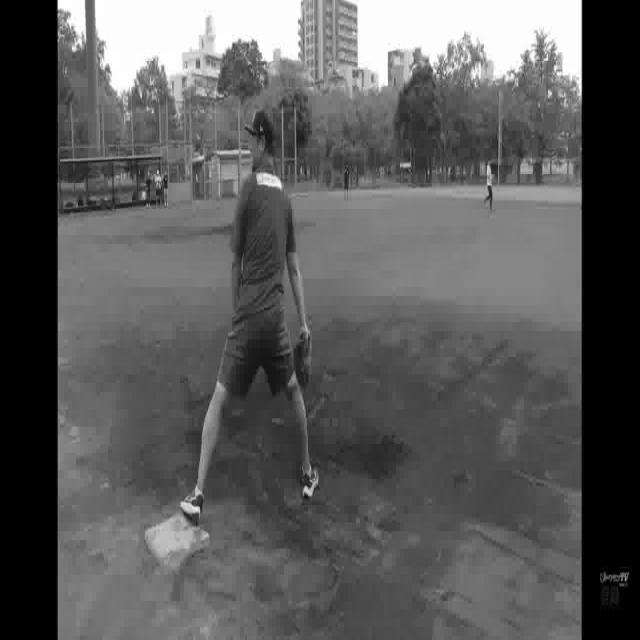base: (143, 512, 209, 565)
baseball_glove: (296, 313, 314, 381)
shoe: (182, 480, 206, 528), (301, 470, 321, 502)
